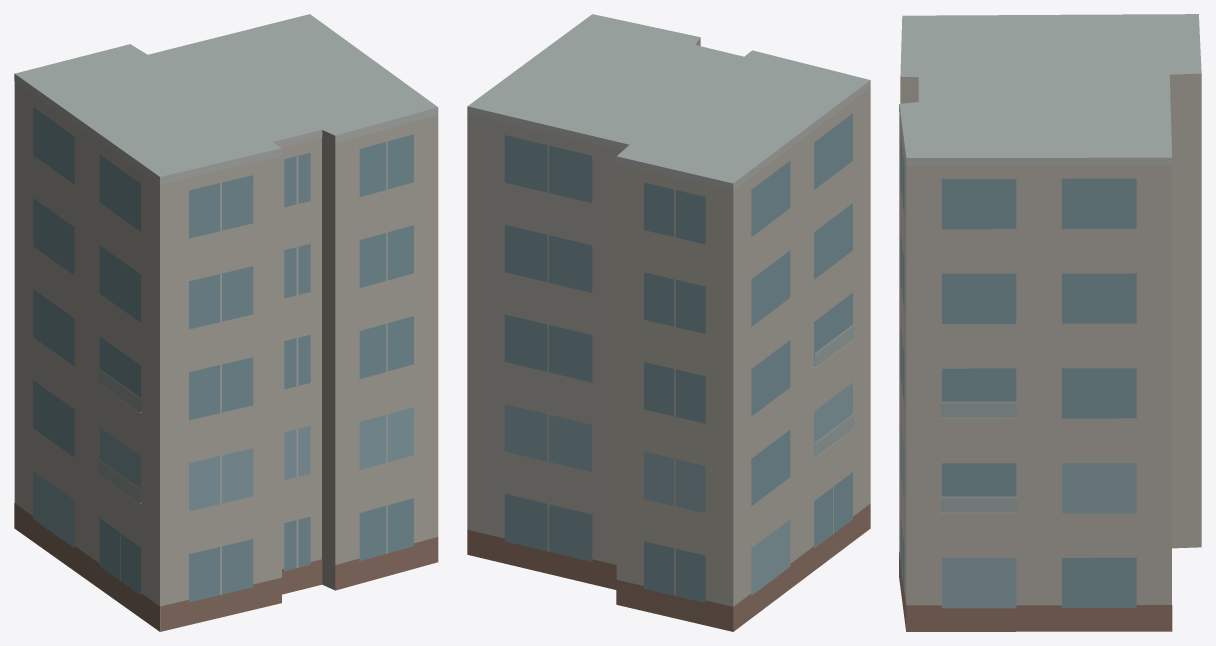
Rendered from survey-upis-33046916.glb.
The picture shows the model from 3 angles, left to right: view 1: azimuth 30°, elevation 25°; view 2: azimuth 150°, elevation 25°; view 3: azimuth 270°, elevation 25°; orthographic projection. The views are drawn at different scales.
Parts seen in each view (by area): view 1: survey-upis-33046916.tmp; view 2: survey-upis-33046916.tmp; view 3: survey-upis-33046916.tmp.
Boxes of the visible parts, x1=… form: survey-upis-33046916.tmp: x1=14, y1=14, x2=438, y2=631; survey-upis-33046916.tmp: x1=467, y1=14, x2=870, y2=631; survey-upis-33046916.tmp: x1=899, y1=14, x2=1201, y2=631.
Bounding box in the file's own units: 9.49 × 14.5 × 8.4.
